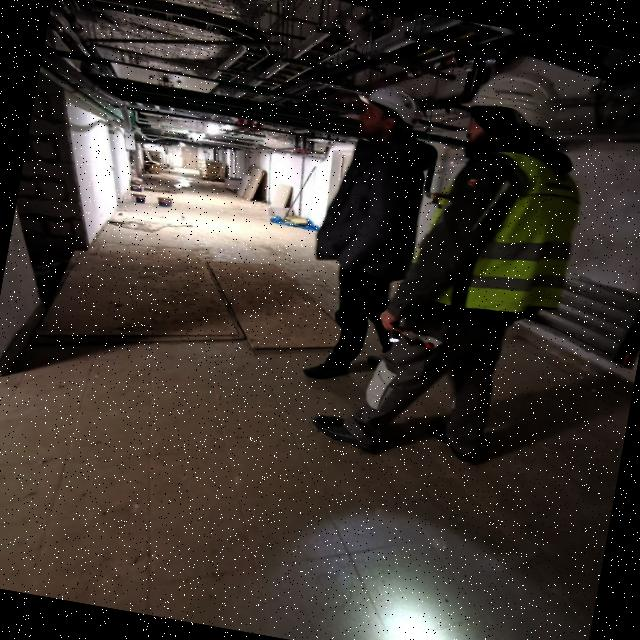Helmet: (460, 64, 568, 137), (351, 80, 428, 133)
Jacket: (428, 123, 592, 332)
NoJacket: (317, 119, 430, 283)
